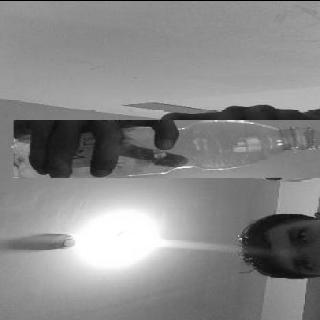plastic_bottles: (13, 120, 320, 177)
